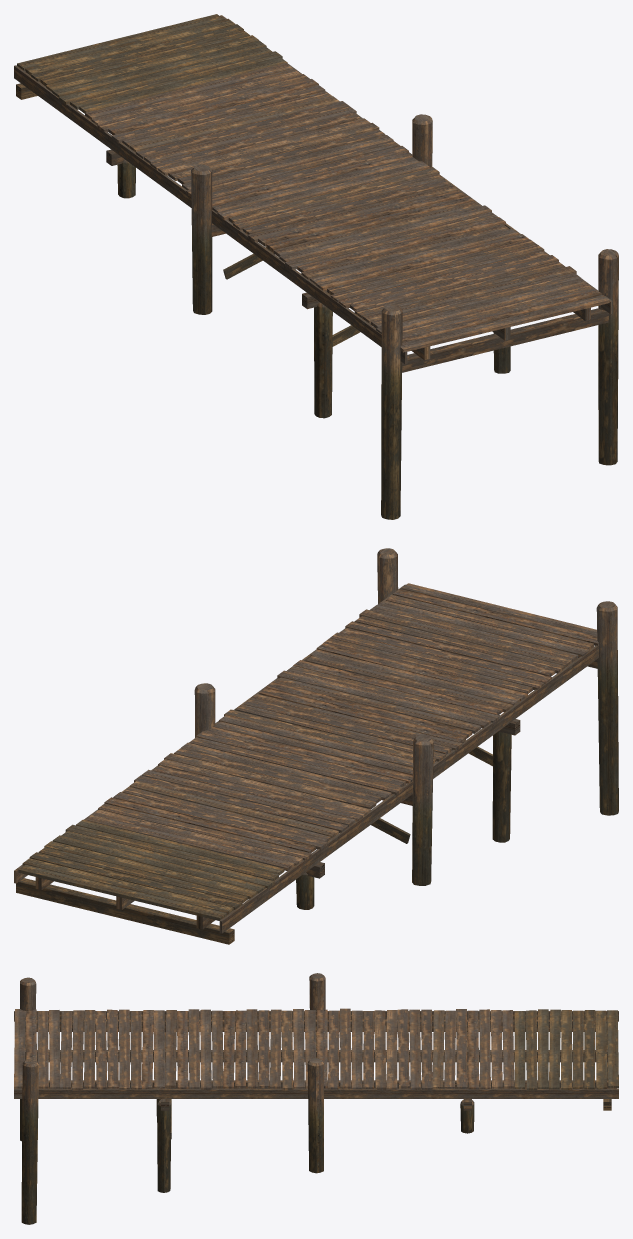
The model's file is fdx-pier-jetty.glb.
3 views of the same model, one above another, from view 1: azimuth 30°, elevation 25°; view 2: azimuth 150°, elevation 25°; view 3: azimuth 270°, elevation 25° (orthographic). The views are drawn at different scales.
Visible parts, largest first — view 1: fdx_pier_jetty_lod0; view 2: fdx_pier_jetty_lod0; view 3: fdx_pier_jetty_lod0.
Boxes of the visible parts, bbox=[...] form: fdx_pier_jetty_lod0: bbox=[14, 14, 618, 519]; fdx_pier_jetty_lod0: bbox=[14, 548, 618, 944]; fdx_pier_jetty_lod0: bbox=[14, 973, 618, 1224].
Size of what is drawn, in the model's own units: 2.84 by 2.38 by 8.
1 material, 1 textured.
